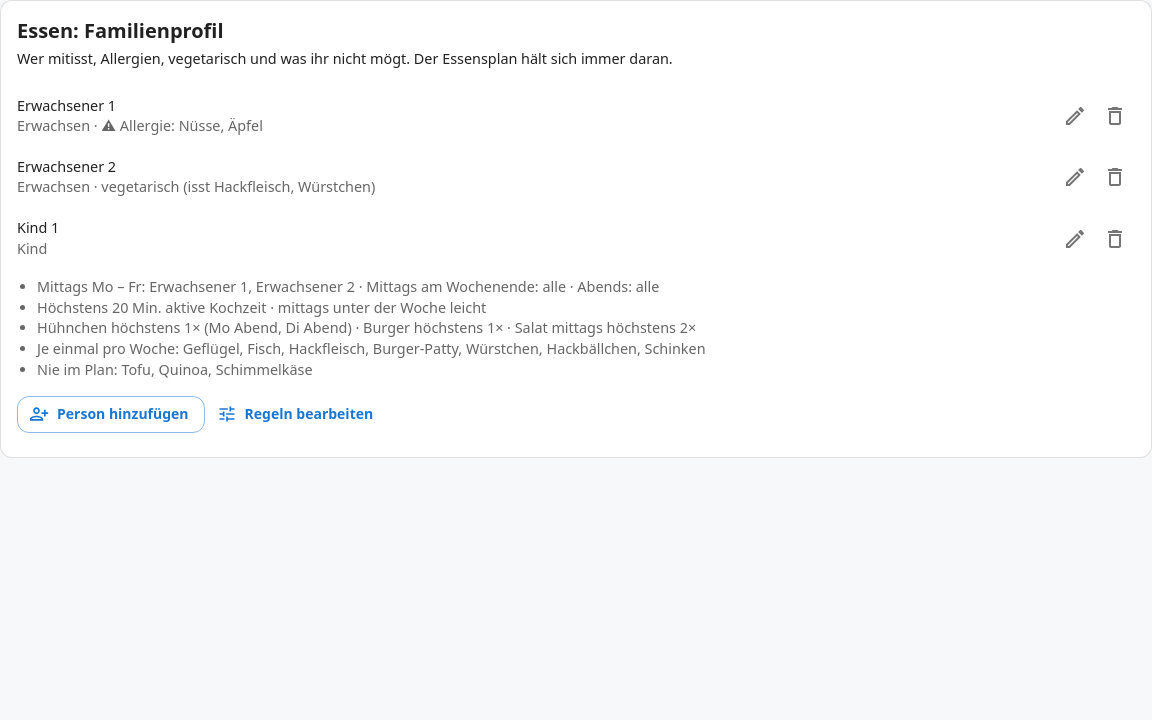
Test case: FoodProfileSettings (FOOD-004) › removes a person also from the attendance lists
The image size is (1152, 720).
Click the button named "Erwachsener 2 entfernen": (1115, 177) [1095,157,1135,197]
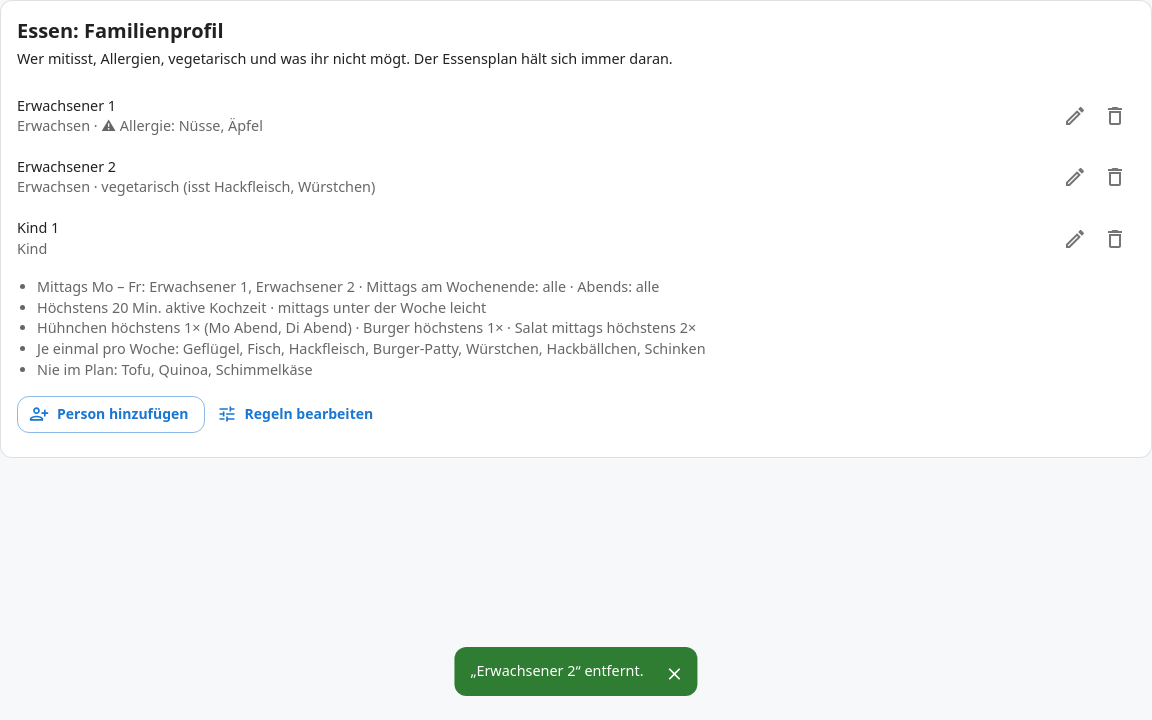
Check: the text "„Erwachsener 2“ entfernt." is shown, box [470,661,644,680]
